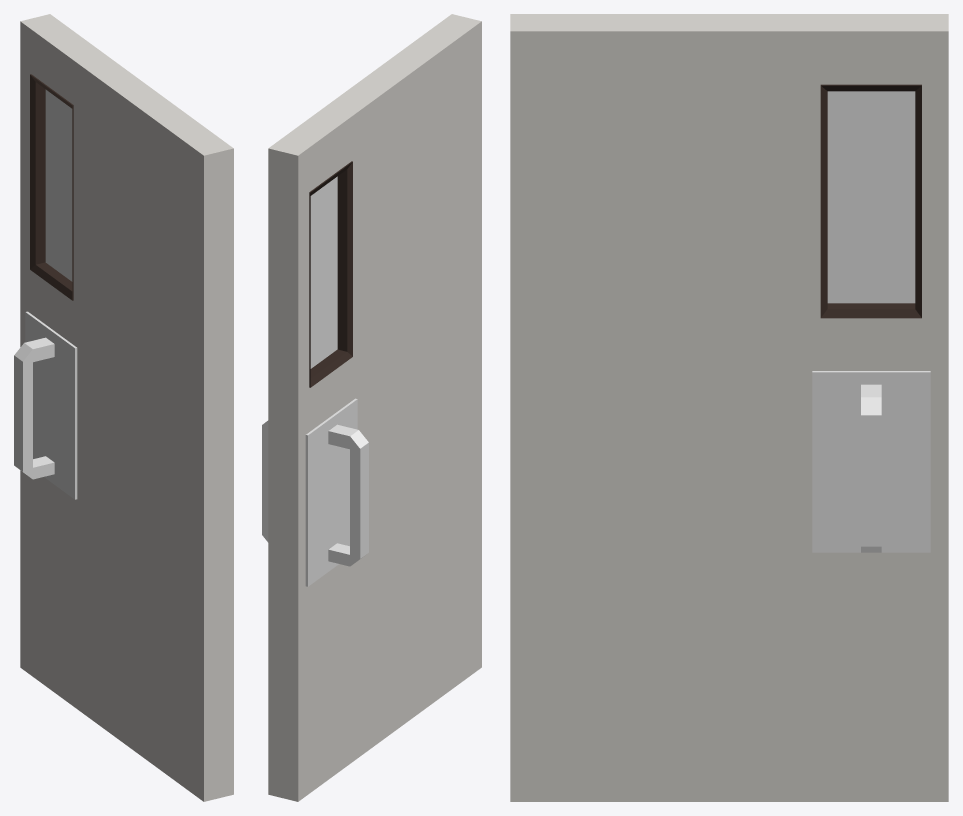
The model's file is Elements_Door.fbx.
3 renders of one model, left to right at view 1: azimuth 30°, elevation 25°; view 2: azimuth 150°, elevation 25°; view 3: azimuth 270°, elevation 25°, orthographic. The views are drawn at different scales.
Visible parts, largest first — view 1: Door; view 2: Door; view 3: Door.
Part boxes in pixels (box(x1,y1,x2,y2)): Door: box(14, 14, 233, 801); Door: box(262, 14, 481, 801); Door: box(510, 14, 948, 801).
Size of the model in its own units: 24.14 by 152 by 78.33.
Materials: 1 (1 with a texture image).
